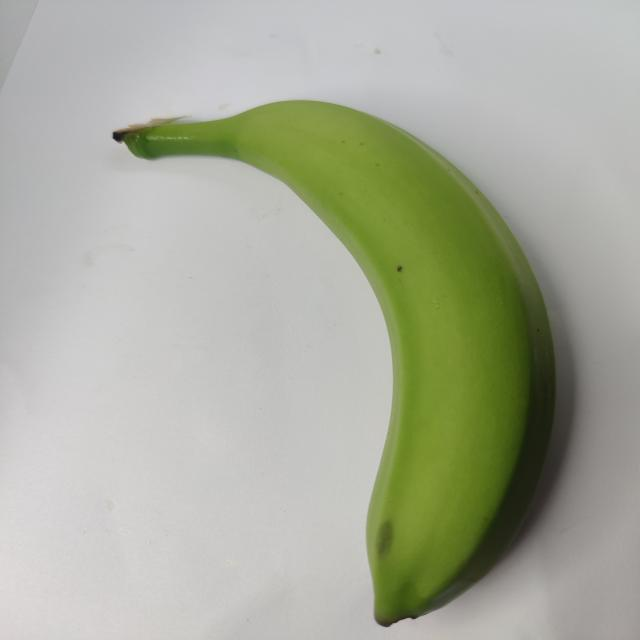raw: (100, 70, 573, 636)
